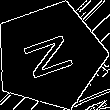N_E: (18, 28, 81, 83)
